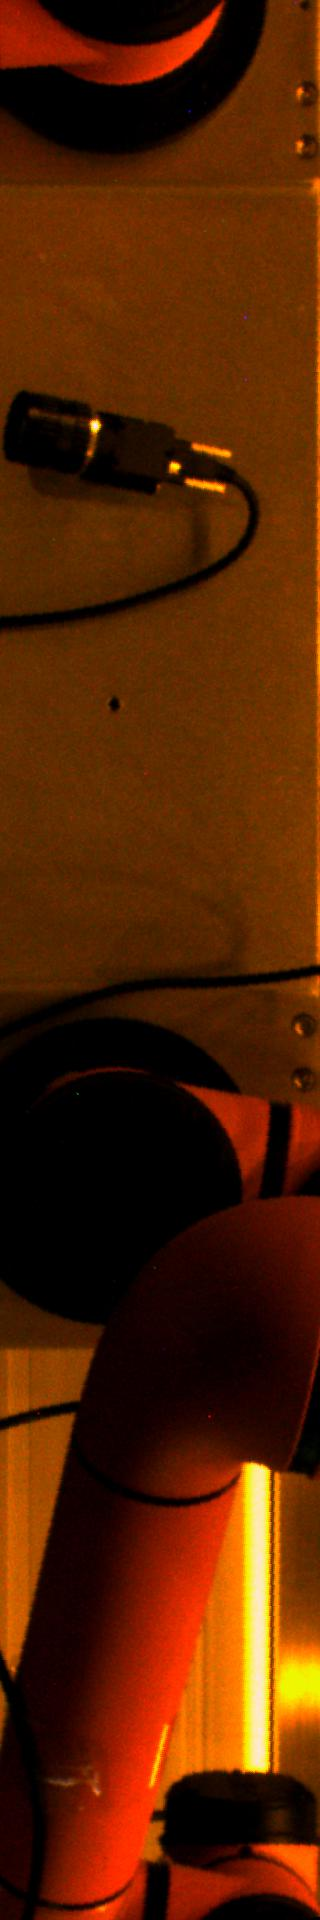keyPoint_2: (98, 691, 128, 720)
